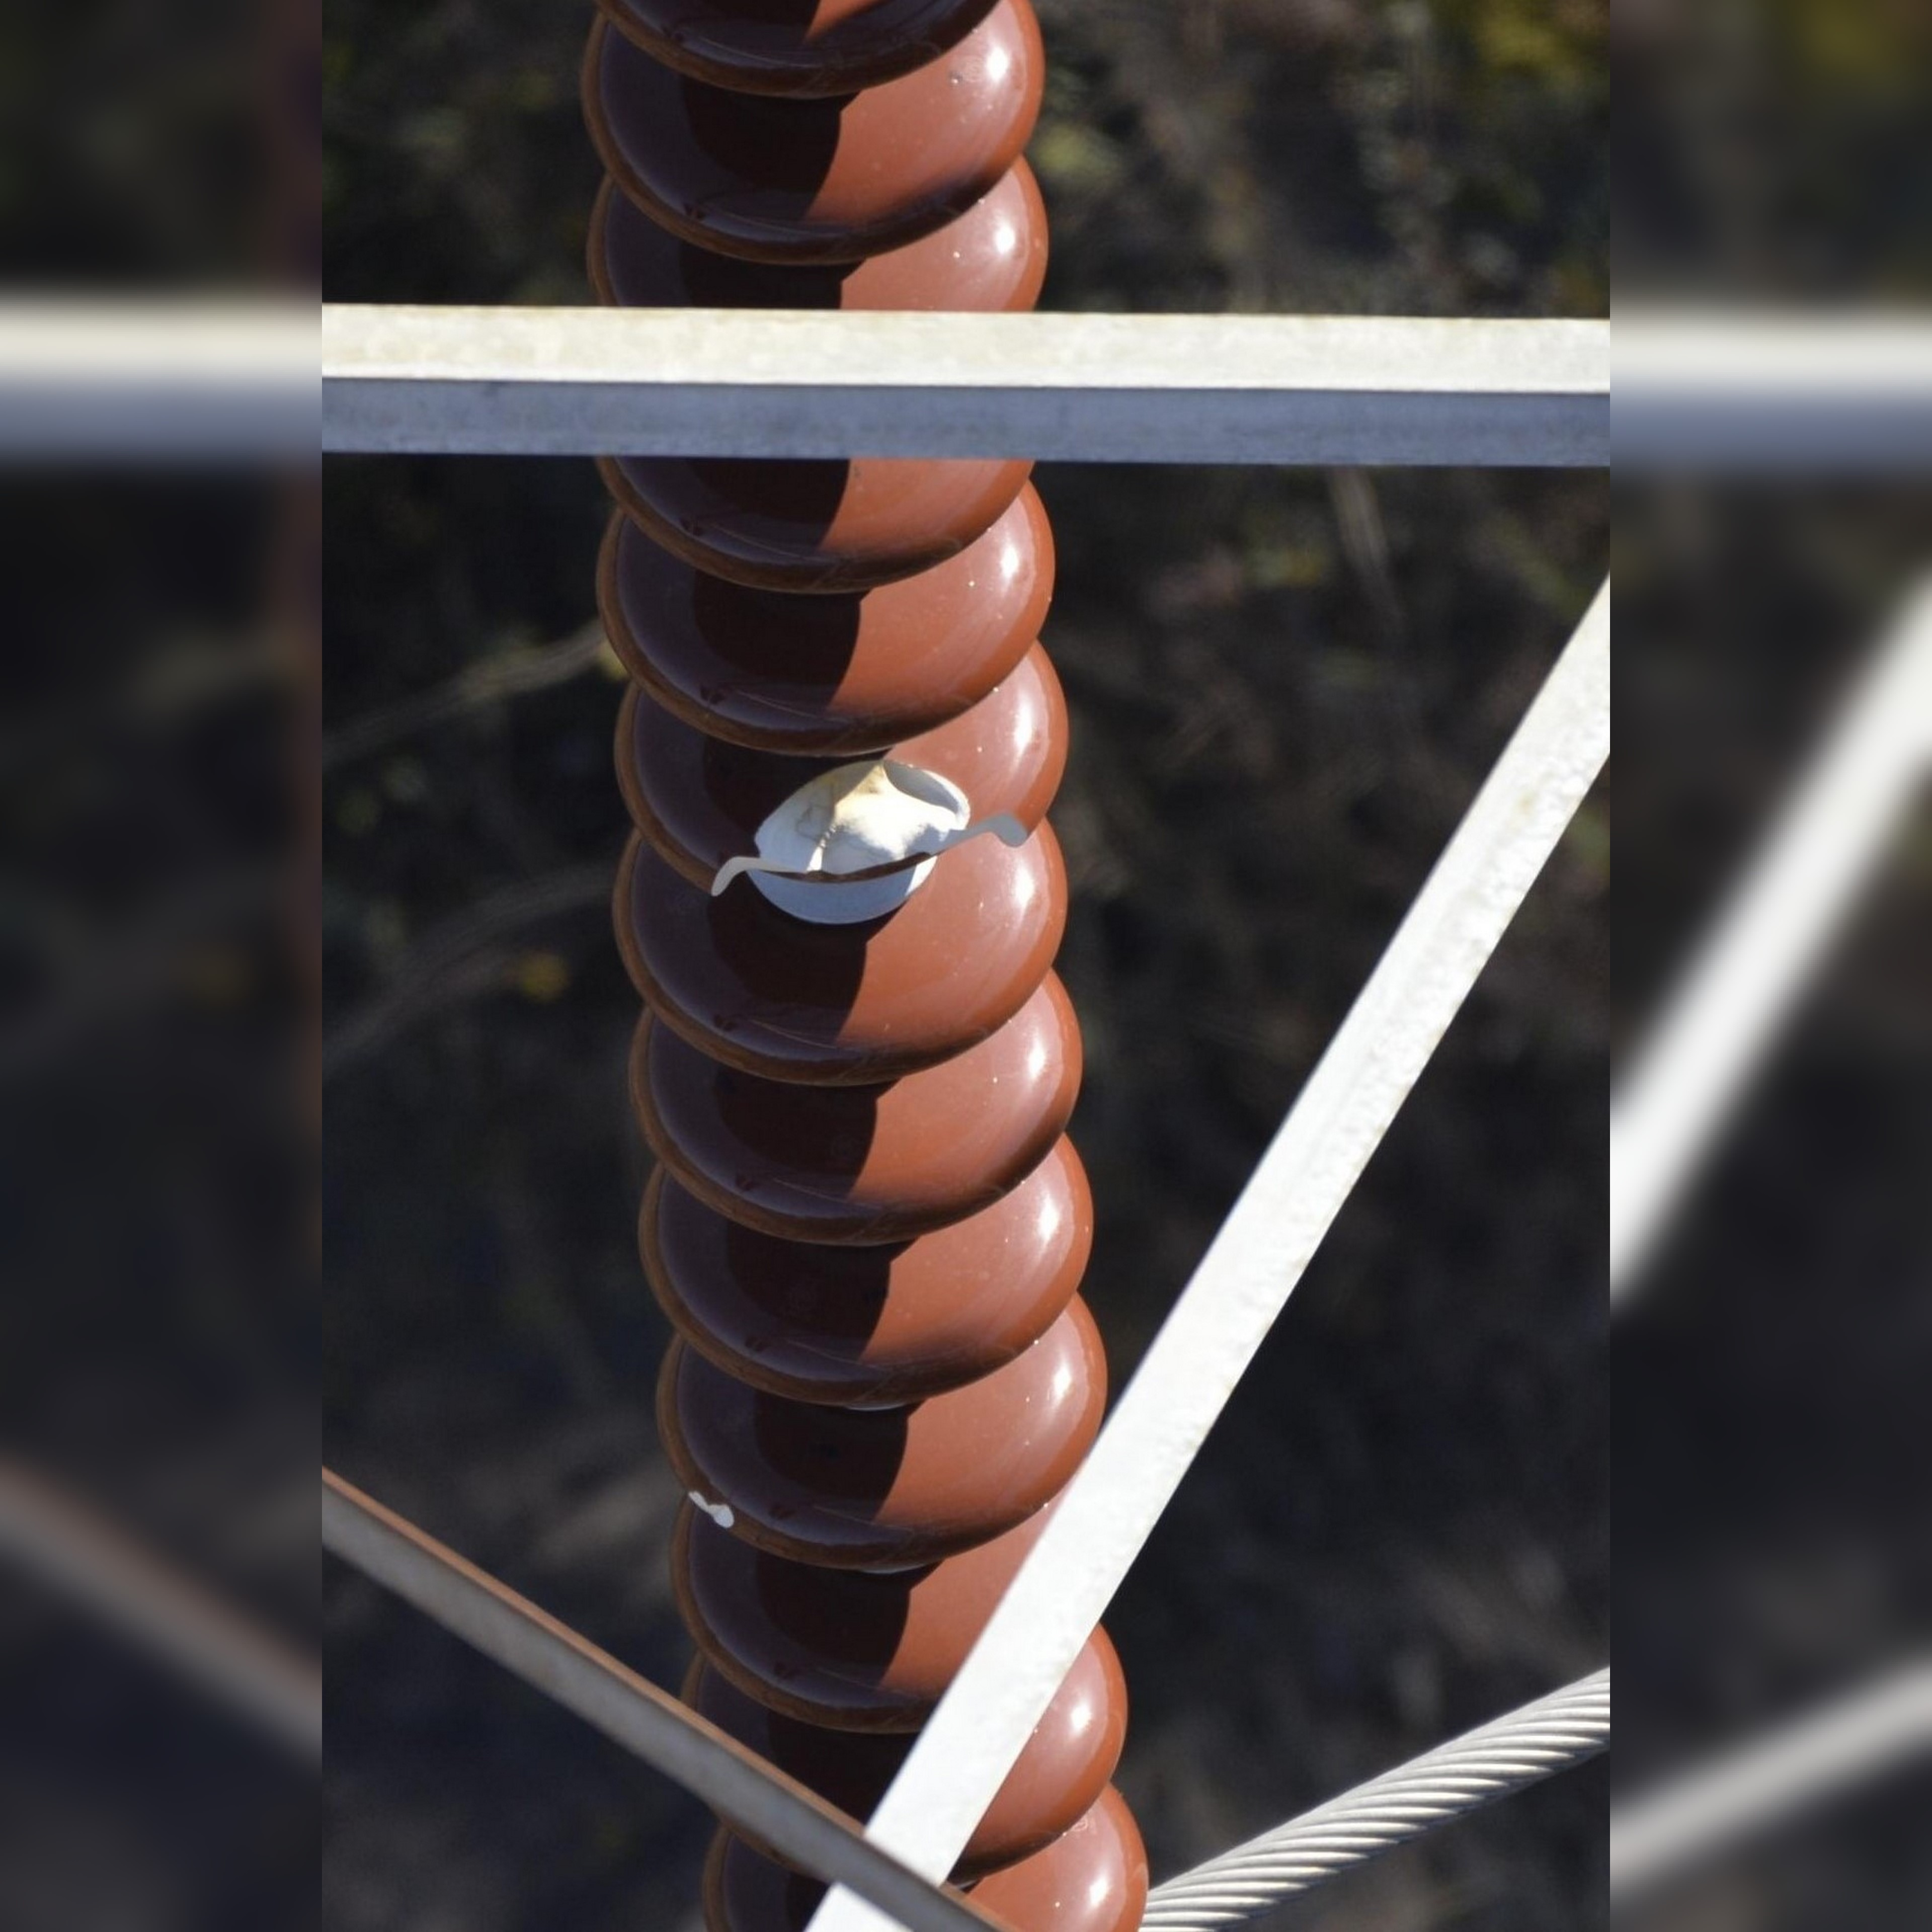insulator breakage: (607, 633, 1085, 904)
